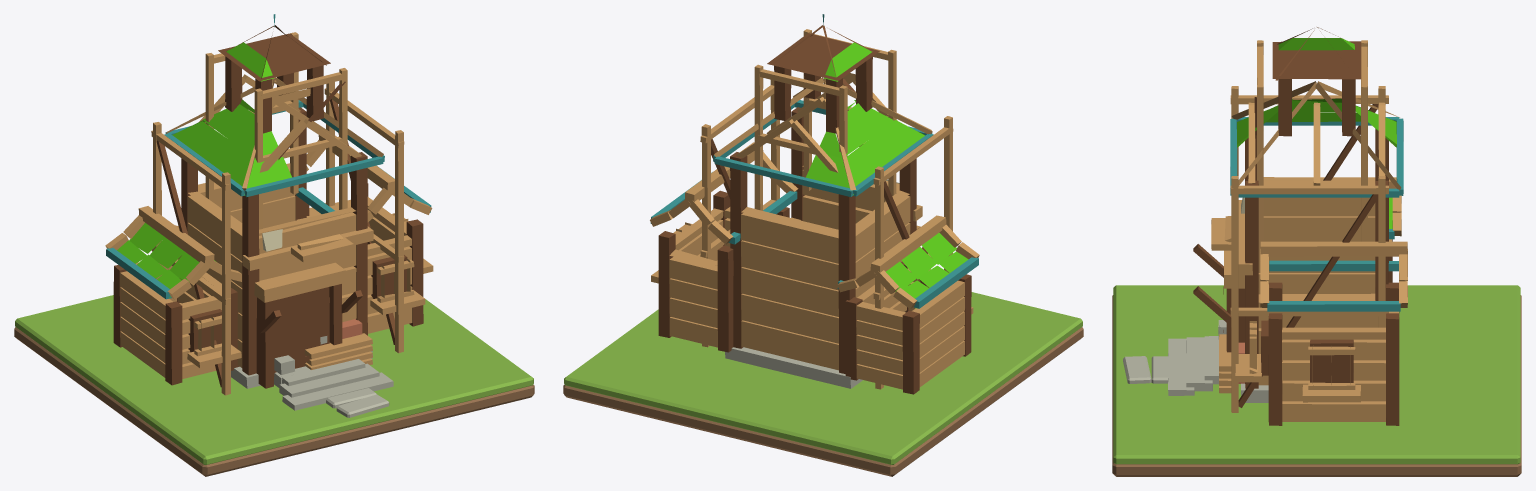
File: town_hall_l05_construction_LOD2.glb
The picture shows the model from 3 angles, left to right: view 1: azimuth 30°, elevation 25°; view 2: azimuth 150°, elevation 25°; view 3: azimuth 270°, elevation 25°; orthographic projection. The views are drawn at different scales.
Parts seen in each view (by area): view 1: town_hall_l05_construction_foundation.001, town_hall_l05_construction_grass_tile.001, town_hall_l05_construction_earth_tile.001, town_hall_l05_construction_path_stone.005; view 2: town_hall_l05_construction_foundation.001, town_hall_l05_construction_grass_tile.001, town_hall_l05_construction_earth_tile.001; view 3: town_hall_l05_construction_foundation.001, town_hall_l05_construction_grass_tile.001, town_hall_l05_construction_earth_tile.001, town_hall_l05_construction_path_stone.005, town_hall_l05_construction_path_stone.004.
Part boxes in pixels (<box>): town_hall_l05_construction_foundation.001: <box>105,14,433,410</box>; town_hall_l05_construction_grass_tile.001: <box>15,295,533,464</box>; town_hall_l05_construction_earth_tile.001: <box>14,327,534,476</box>; town_hall_l05_construction_path_stone.005: <box>336,394,389,417</box>; town_hall_l05_construction_foundation.001: <box>650,14,979,394</box>; town_hall_l05_construction_grass_tile.001: <box>564,292,1082,464</box>; town_hall_l05_construction_earth_tile.001: <box>563,327,1083,476</box>; town_hall_l05_construction_foundation.001: <box>1168,27,1407,425</box>; town_hall_l05_construction_grass_tile.001: <box>1113,285,1520,464</box>; town_hall_l05_construction_earth_tile.001: <box>1112,295,1521,476</box>; town_hall_l05_construction_path_stone.005: <box>1123,356,1151,383</box>; town_hall_l05_construction_path_stone.004: <box>1151,356,1168,383</box>.
Size of the model in its own units: 3.6 by 3.67 by 3.6.
